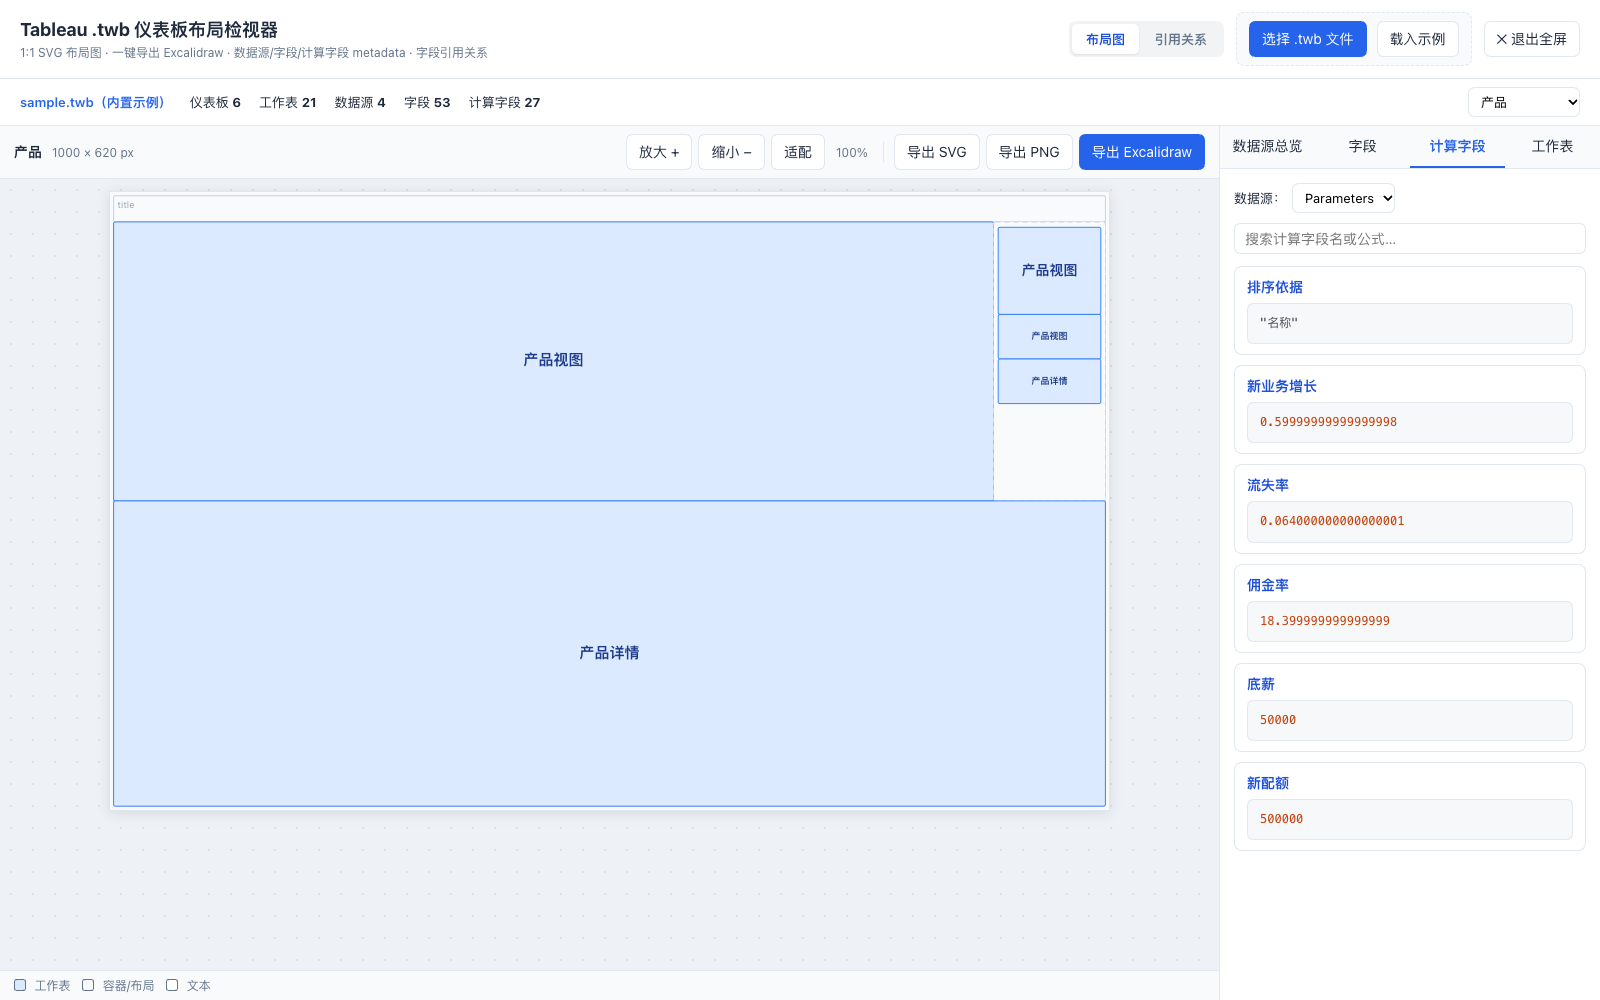

The page's visual inventory and layout, read from the dashboard file:
{"tool":"tableau","page":{"name":"产品","canvas":[1000,1000],"units":"permille","ordinal":0},"visuals":[{"type":"title","box":[4.1,7.7,991.8,42]},{"type":"worksheet","title":"产品视图","mark":"Square","rows":["类别","订单日期"],"cols":["订单日期"],"box":[4.1,49.8,879.9,450]},{"type":"filter","title":"产品视图","param":"[federated.10nnk8d1vgmw8q17yu76u06pnbcj].[none:区域:nk]","box":[888.6,58.6,102.6,140.5]},{"type":"legend","title":"产品视图","param":"[federated.10nnk8d1vgmw8q17yu76u06pnbcj].[sum:销售额:qk]","box":[888.6,199.1,102.6,71.9]},{"type":"legend","title":"产品详情","param":"[federated.10nnk8d1vgmw8q17yu76u06pnbcj].[usr:Calculation_9921103144103743:qk]","box":[888.6,271,102.6,71.9]},{"type":"worksheet","title":"产品详情","mark":"Circle","rows":["类别","子类别"],"cols":["细分","销售额"],"box":[4.1,499.8,991.8,492.5]}]}

Visuals, with their boxes on the dashboard's canvas, which has no fixed pixel size, in thousandths of its width and height (x1, y1, x2, y2). These are canvas units, not pixel positions in the 1600x1000 screenshot, which may show the page scaled, cropped or inside an application window:
title: {"left": 4, "top": 8, "right": 996, "bottom": 50}
"产品视图" worksheet (Square marks): {"left": 4, "top": 50, "right": 884, "bottom": 500}
"产品视图" filter: {"left": 889, "top": 59, "right": 991, "bottom": 199}
"产品视图" legend: {"left": 889, "top": 199, "right": 991, "bottom": 271}
"产品详情" legend: {"left": 889, "top": 271, "right": 991, "bottom": 343}
"产品详情" worksheet (Circle marks): {"left": 4, "top": 500, "right": 996, "bottom": 992}
